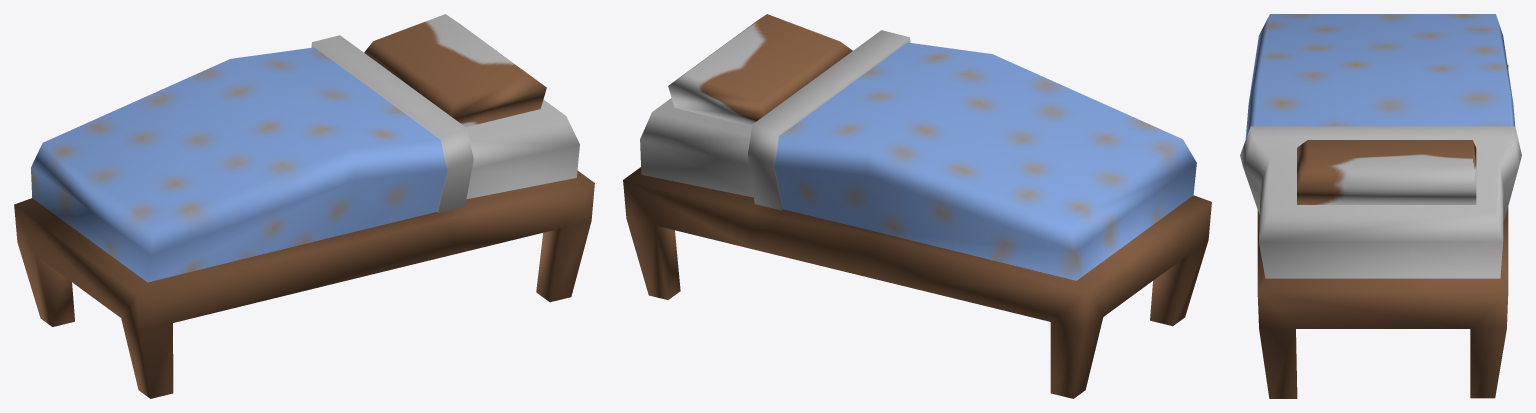
Rendered from bed.fbx.
3 renders of one model, left to right at view 1: azimuth 30°, elevation 25°; view 2: azimuth 150°, elevation 25°; view 3: azimuth 270°, elevation 25°, orthographic.
Visible parts, largest first — view 1: polySurface69; view 2: polySurface69; view 3: polySurface69.
Part boxes in pixels (box(x1,y1,x2,y2)): polySurface69: box(14, 14, 594, 398); polySurface69: box(623, 14, 1211, 398); polySurface69: box(1240, 14, 1521, 398).
Size of the model in its own units: 1.88 by 0.8492 by 0.9859.
Materials: 1 (1 with a texture image).
